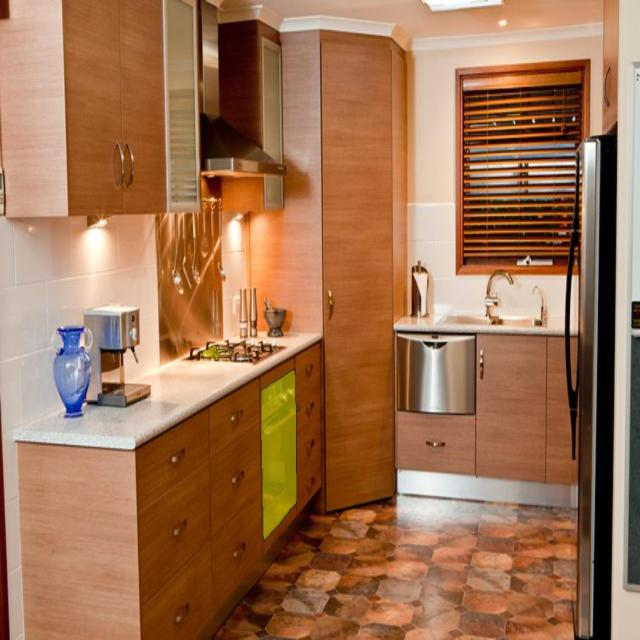dishwasher: (394, 329, 474, 416)
